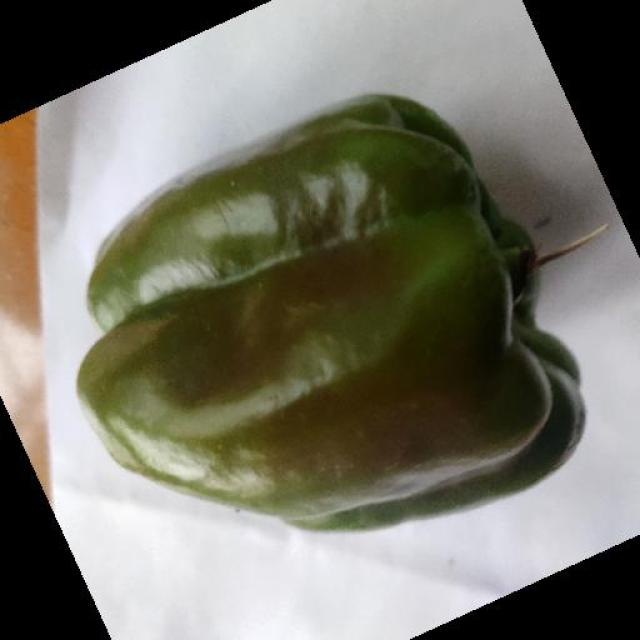Stale_Capsicum: (118, 136, 580, 516)
